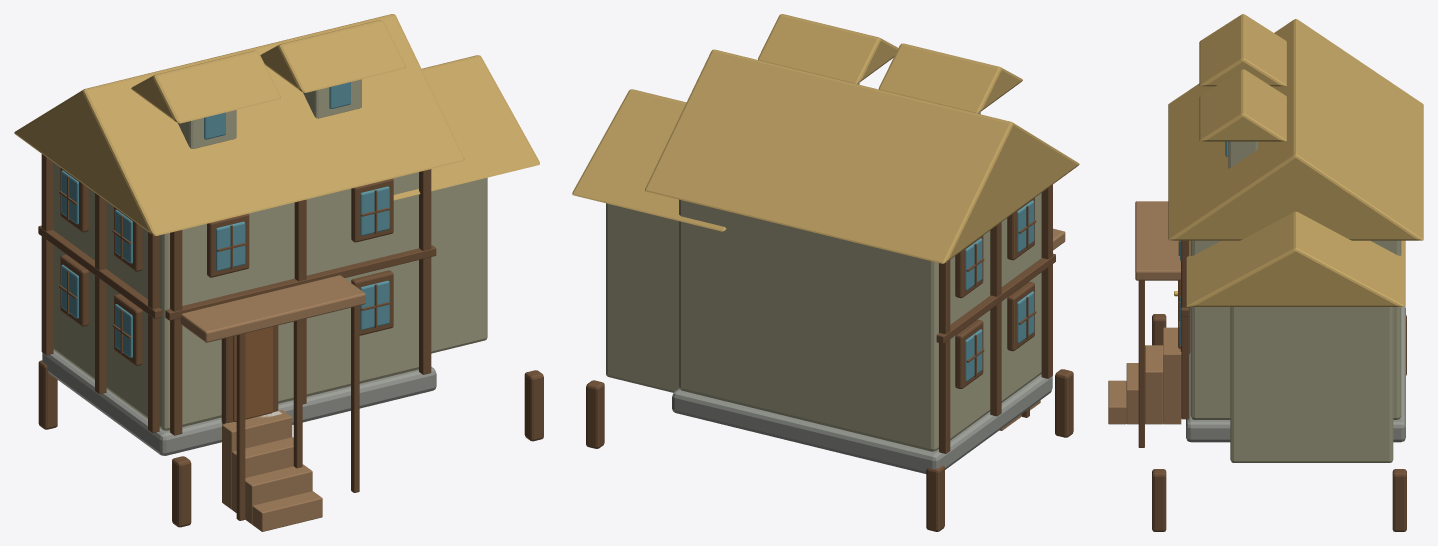
The model's file is wetland-townhouse-2.glb.
The picture shows the model from 3 angles, left to right: view 1: azimuth 30°, elevation 25°; view 2: azimuth 150°, elevation 25°; view 3: azimuth 270°, elevation 25°; orthographic projection. The views are drawn at different scales.
Visible parts, largest first — view 1: Golden thatch, Weathered planks, Dark beams, Aged oak, Foundation stone, Blue glass, Door oak; view 2: Golden thatch, Weathered planks, Dark beams, Foundation stone, Blue glass; view 3: Golden thatch, Weathered planks, Aged oak, Dark beams, Foundation stone.
Boxes of the visible parts, x1,y1,x2,y2 form: Golden thatch: (14,14,539,235); Weathered planks: (53,79,487,430); Dark beams: (38,154,543,527); Aged oak: (180,275,365,531); Foundation stone: (42,350,436,455); Blue glass: (61,82,389,357); Door oak: (233,327,272,421); Golden thatch: (572,14,1079,263); Weathered planks: (606,83,1041,451); Dark beams: (586,184,1073,531); Foundation stone: (672,374,1052,473); Blue glass: (965,200,1034,381); Golden thatch: (1168,14,1423,306); Weathered planks: (1190,141,1401,462); Aged oak: (1108,201,1181,424); Dark beams: (1138,240,1406,531); Foundation stone: (1186,307,1405,442).
Size of the model in its own units: 5.22 by 5.14 by 3.97.
